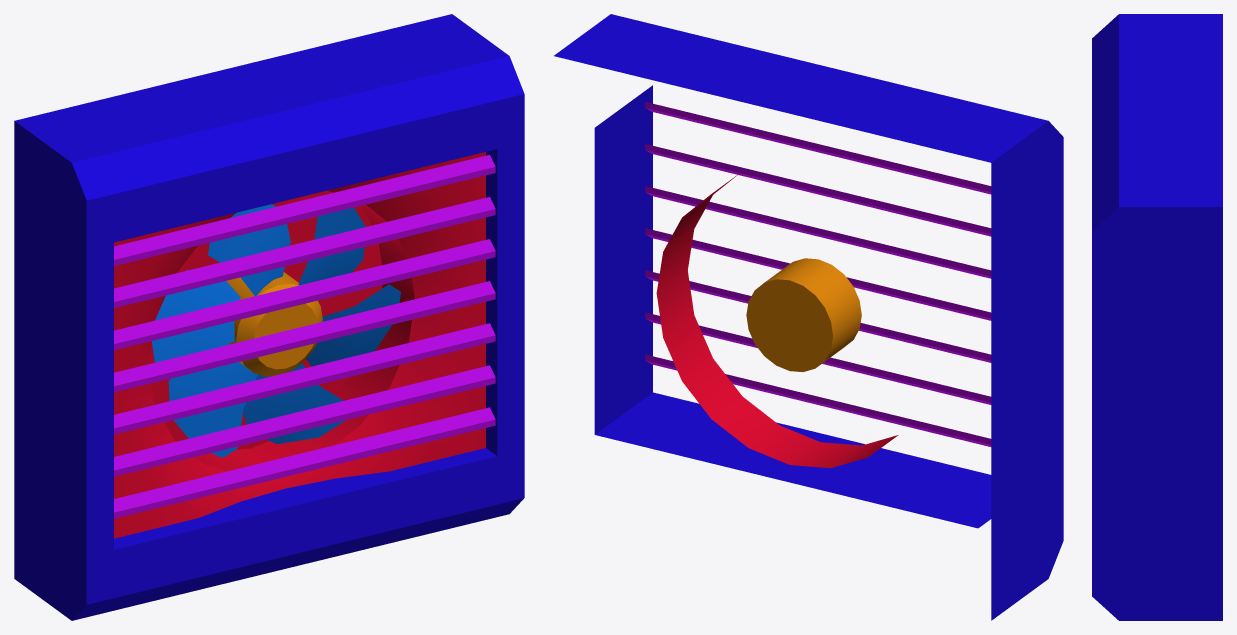
File: ventilation_fan.glb
3 renders of one model, left to right at view 1: azimuth 30°, elevation 25°; view 2: azimuth 150°, elevation 25°; view 3: azimuth 270°, elevation 25°, orthographic. The views are drawn at different scales.
Parts seen in each view (by area): view 1: Cube, Plane, Cylinder, MiddleCylinder, Blade.005, Blade, Blade.004, Blade.003, Blade.001, Blade.002; view 2: Cube, Plane, Cylinder, MiddleCylinder; view 3: Cube.
Part boxes in pixels (x1,y1,x2,y2): Cube: (14, 14, 524, 620); Plane: (114, 154, 495, 518); Cylinder: (114, 152, 485, 538); MiddleCylinder: (226, 272, 322, 376); Blade.005: (152, 270, 240, 362); Blade: (168, 344, 257, 457); Blade.004: (243, 363, 345, 443); Blade.003: (306, 284, 400, 366); Blade.001: (208, 204, 290, 295); Blade.002: (298, 207, 365, 284); Cube: (554, 14, 1063, 620); Plane: (645, 102, 991, 446); Cylinder: (656, 172, 898, 468); MiddleCylinder: (746, 258, 861, 371); Cube: (1092, 14, 1222, 620).
Size of the model in its own units: 1.6 by 1.6 by 0.458.
